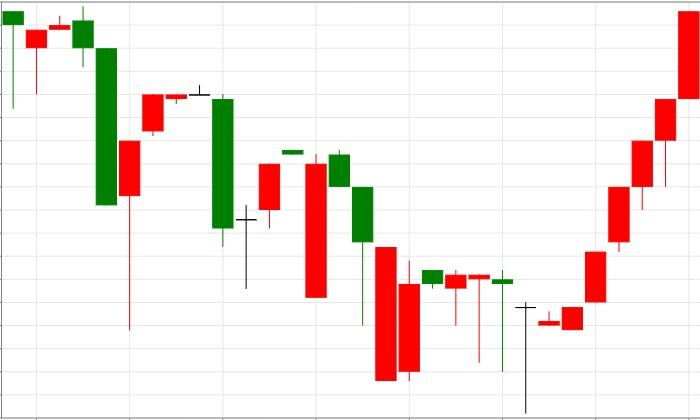three_white_soldiers_rise: (422, 186, 630, 413)
